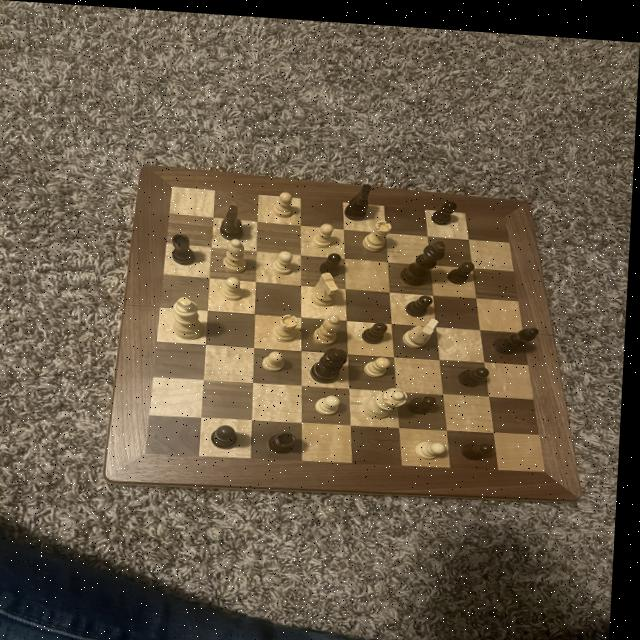bishop: (493, 317, 550, 353), (212, 419, 248, 448)
black-bishop: (397, 230, 455, 286)
black-king: (344, 173, 378, 222), (220, 198, 252, 238)
black-knight: (462, 432, 504, 457), (428, 194, 464, 222), (447, 253, 480, 282), (457, 359, 497, 382), (412, 386, 446, 413), (405, 286, 439, 312), (362, 314, 393, 340), (317, 247, 348, 273)
black-pawn: (311, 340, 352, 381)
black-queen: (268, 422, 307, 454), (171, 230, 204, 264)
black-rook: (222, 233, 255, 273), (312, 307, 346, 345)
white-bishop: (172, 294, 210, 340)
white-king: (404, 310, 447, 347), (312, 264, 344, 306)
white-knight: (311, 213, 342, 247), (262, 344, 298, 373), (271, 243, 303, 274), (272, 185, 302, 217), (418, 431, 453, 458), (222, 270, 252, 301), (365, 348, 399, 375), (318, 387, 350, 414)
white-pawn: (366, 380, 414, 417)
white-queen: (363, 213, 396, 248), (272, 307, 306, 340)
